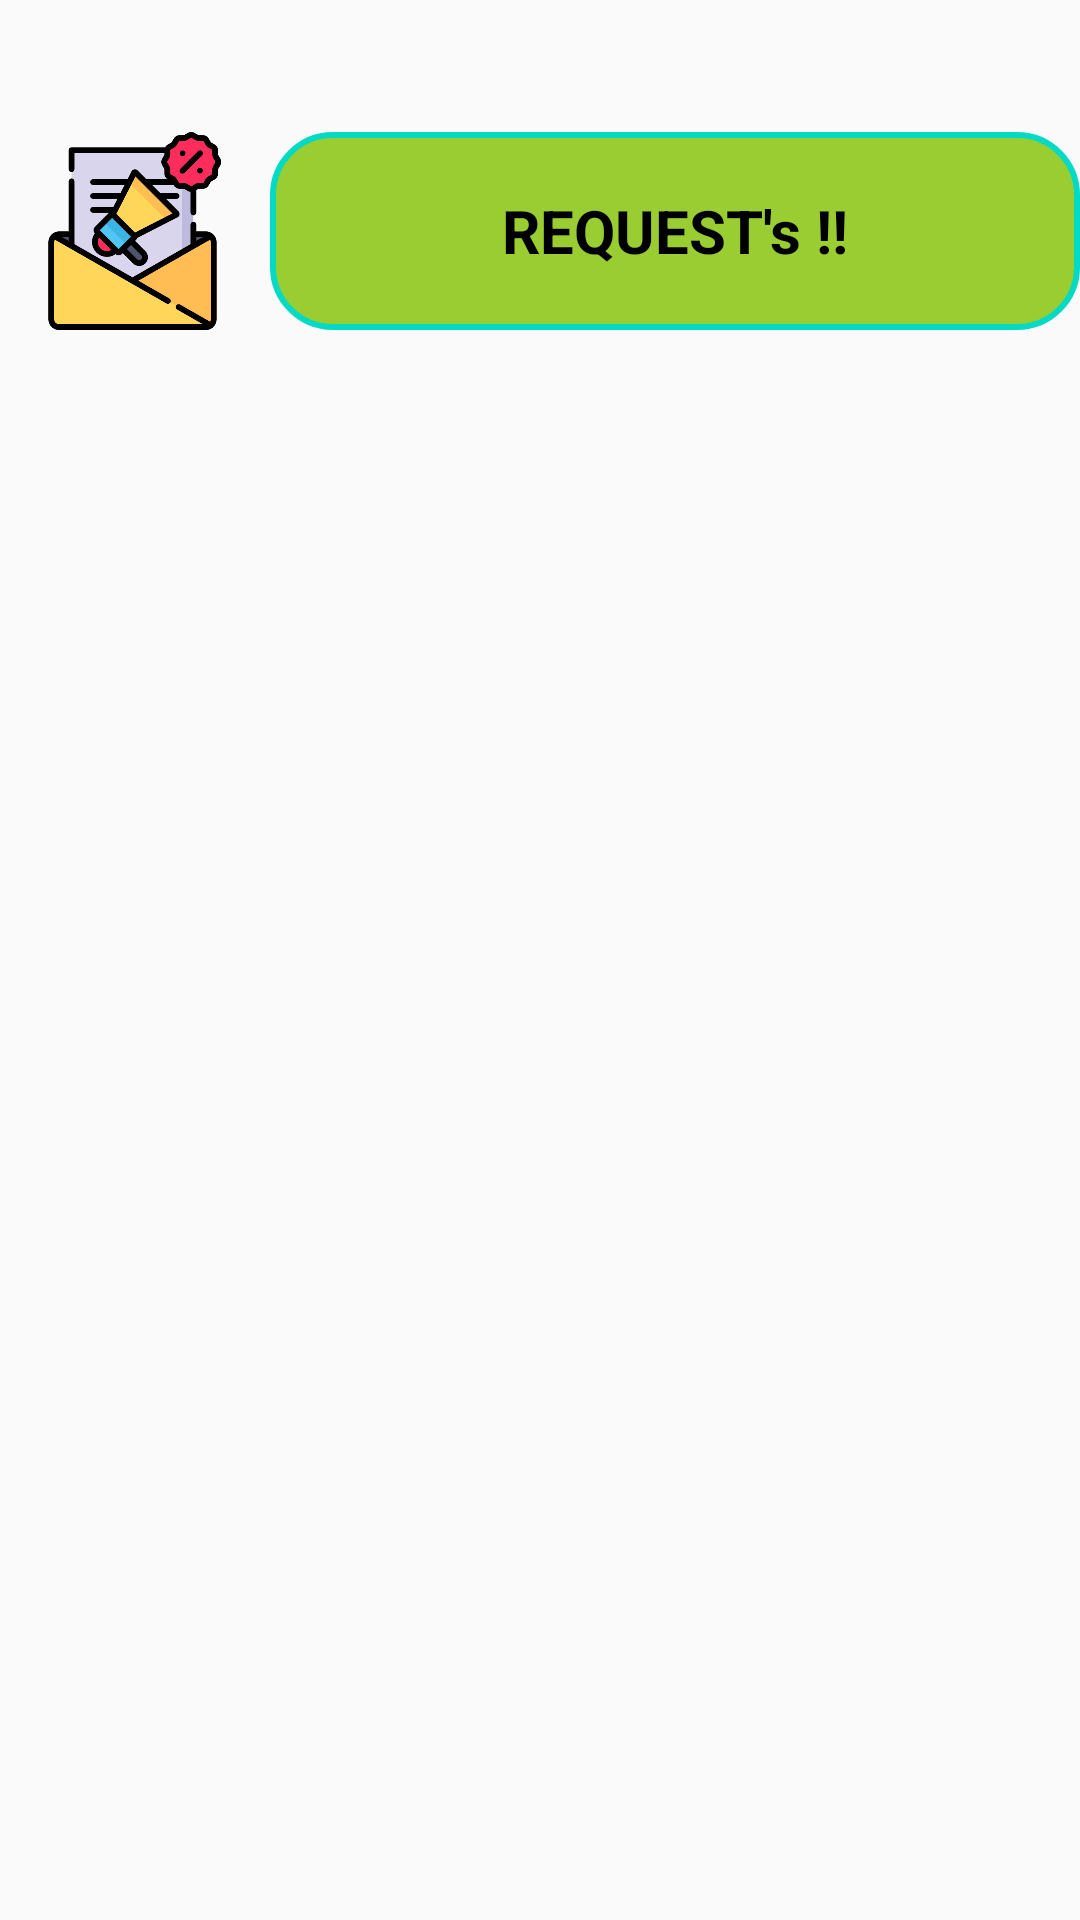

Named icons in this screenshot (1080 x 1920) and their centers, point (x, y):
email: point (134, 231)
